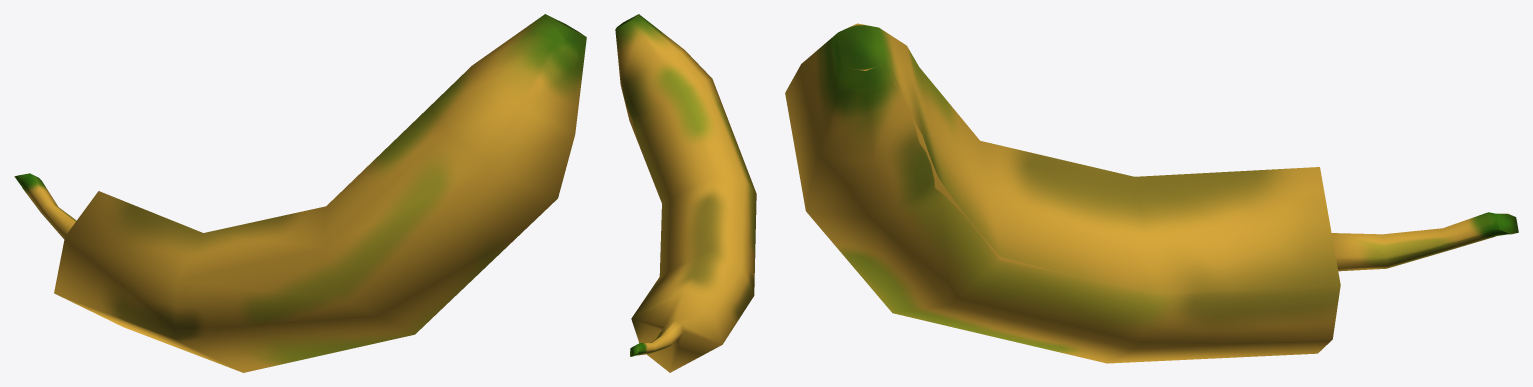
Rendered from banana.glb.
3 renders of one model, left to right at view 1: azimuth 30°, elevation 25°; view 2: azimuth 150°, elevation 25°; view 3: azimuth 270°, elevation 25°, orthographic. The views are drawn at different scales.
Parts seen in each view (by area): view 1: banana; view 2: banana; view 3: banana.
Part boxes in pixels (x1,y1,x2,y2): banana: (14, 14, 586, 372); banana: (615, 14, 756, 372); banana: (785, 23, 1518, 363).
Size of the model in its own units: 0.7779 by 0.8244 by 1.16.
Materials: 1 (1 with a texture image).
